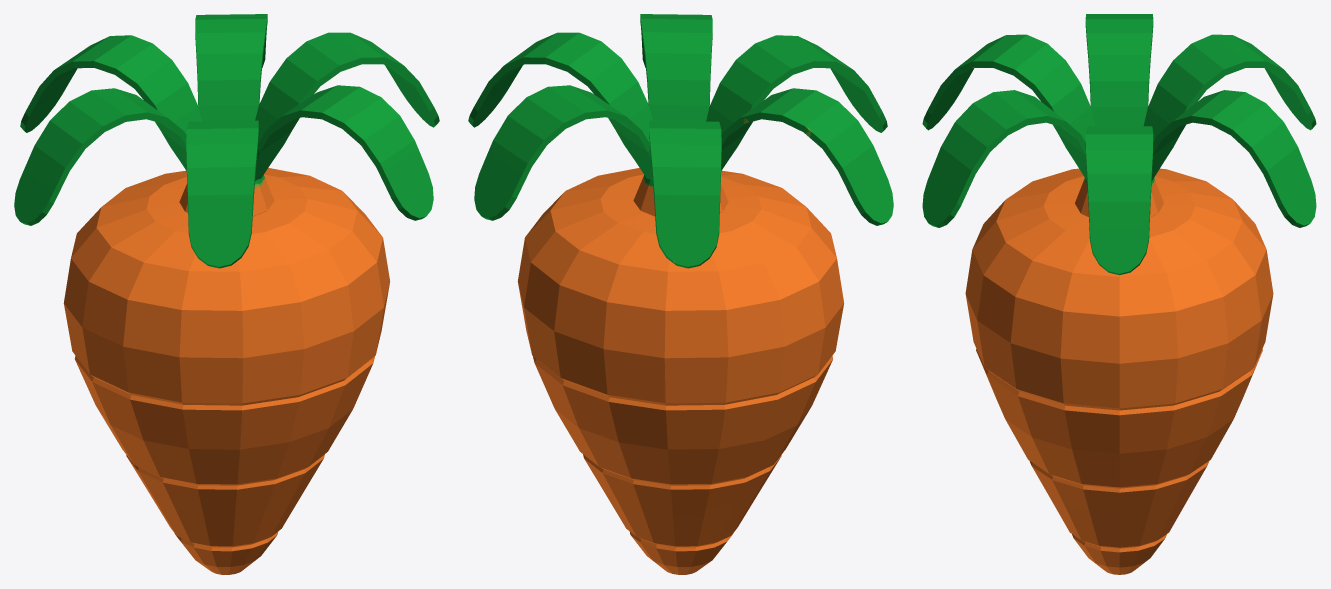
File: carrot.glb
3 renders of one model, left to right at view 1: azimuth 30°, elevation 25°; view 2: azimuth 150°, elevation 25°; view 3: azimuth 270°, elevation 25°, orthographic.
Parts seen in each view (by area): view 1: mesh_id9, mesh_id8; view 2: mesh_id9, mesh_id8; view 3: mesh_id9, mesh_id8.
Part boxes in pixels (x1=…): mesh_id9: x1=63, y1=168, x2=390, y2=574; mesh_id8: x1=14, y1=14, x2=439, y2=268; mesh_id9: x1=517, y1=168, x2=844, y2=574; mesh_id8: x1=468, y1=14, x2=893, y2=268; mesh_id9: x1=965, y1=168, x2=1273, y2=574; mesh_id8: x1=922, y1=14, x2=1316, y2=275.
Bounding box in the file's own units: 0.8624 × 0.9931 × 0.7155.
2 materials, 2 textured.
